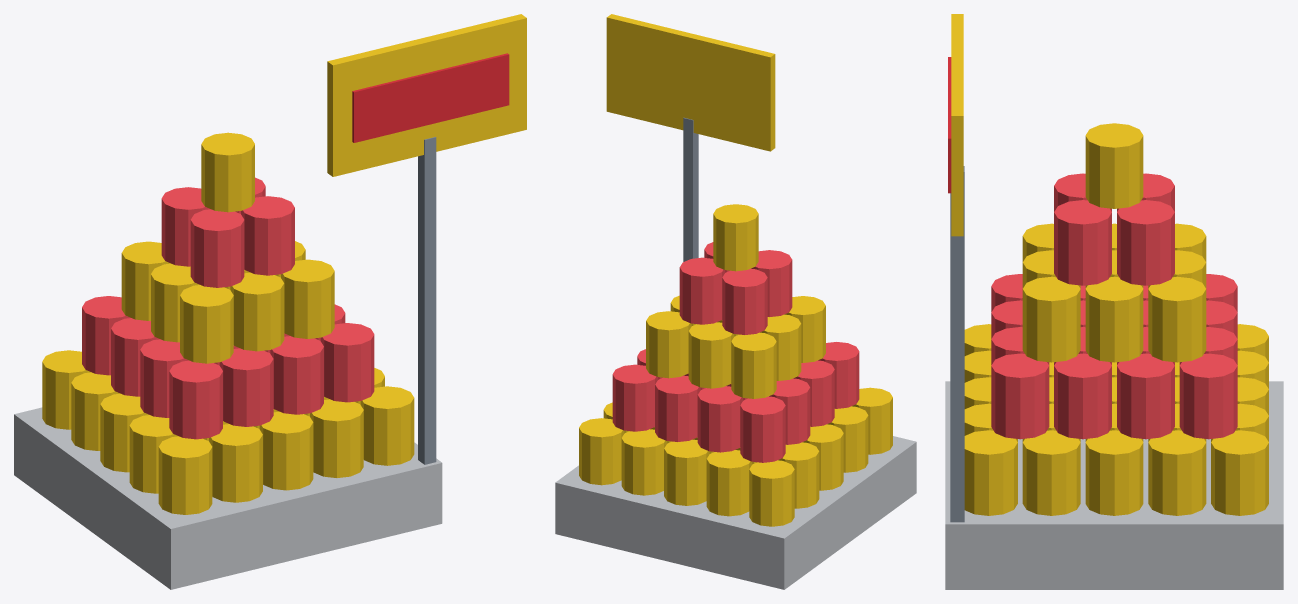
The model's file is endcap.glb.
3 renders of one model, left to right at view 1: azimuth 30°, elevation 25°; view 2: azimuth 150°, elevation 25°; view 3: azimuth 270°, elevation 25°, orthographic. The views are drawn at different scales.
Parts seen in each view (by area): view 1: endcap; view 2: endcap; view 3: endcap.
Boxes of the visible parts, bbox=[...] form: endcap: bbox=[14, 14, 526, 589]; endcap: bbox=[555, 14, 916, 589]; endcap: bbox=[945, 14, 1283, 589].
Bounding box in the file's own units: 1.85 × 2.38 × 1.4.
